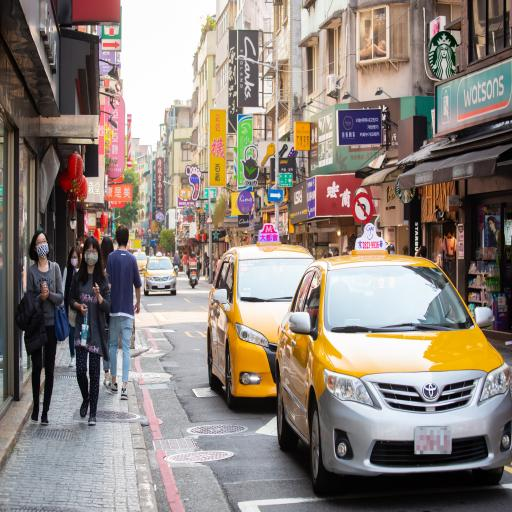car: (269, 212, 510, 492), (193, 219, 315, 403), (140, 245, 182, 304)
redline: (132, 320, 190, 512)
